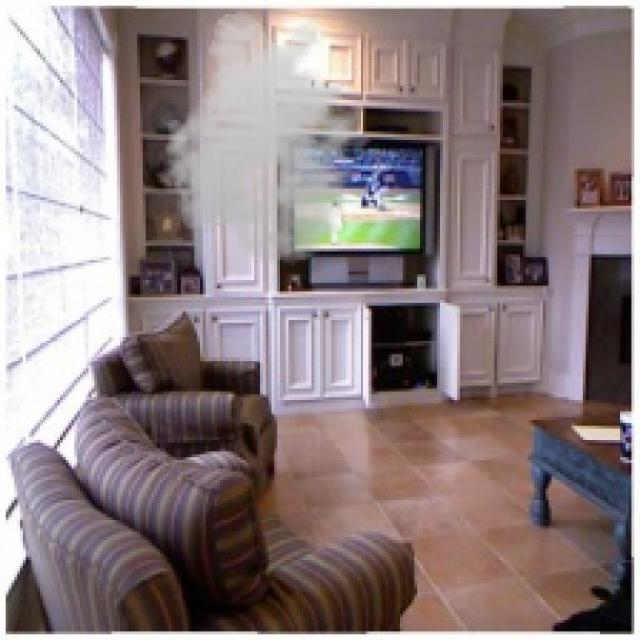smoke: (151, 8, 383, 266)
